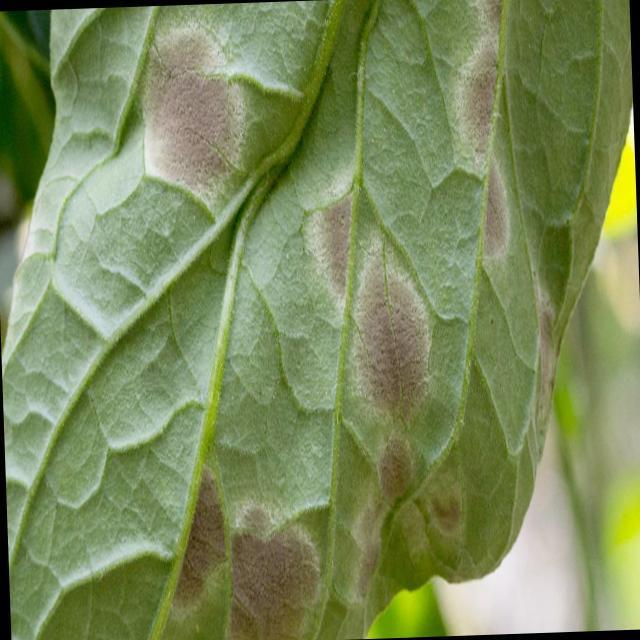Mosaic Virus: (438, 0, 579, 457), (311, 181, 478, 560), (167, 448, 328, 640), (130, 7, 254, 210)
